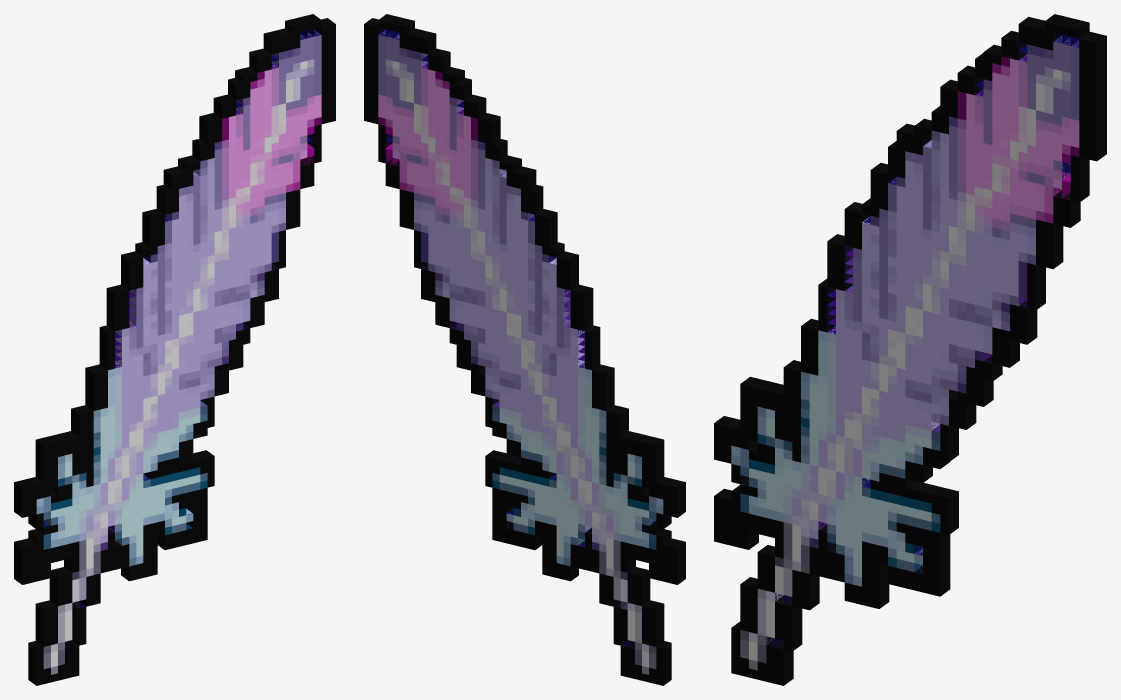
The model's file is MysticFeather.fbx.
The picture shows the model from 3 angles, left to right: view 1: azimuth 30°, elevation 25°; view 2: azimuth 150°, elevation 25°; view 3: azimuth 330°, elevation 25°; orthographic projection. The views are drawn at different scales.
Visible parts, largest first — view 1: mysticfeather; view 2: mysticfeather; view 3: mysticfeather.
Boxes of the visible parts, x1,y1,x2,y2 form: mysticfeather: (14, 14, 335, 685); mysticfeather: (364, 14, 685, 685); mysticfeather: (714, 14, 1106, 685).
Size of the model in its own units: 4345 by 7900 by 198.
